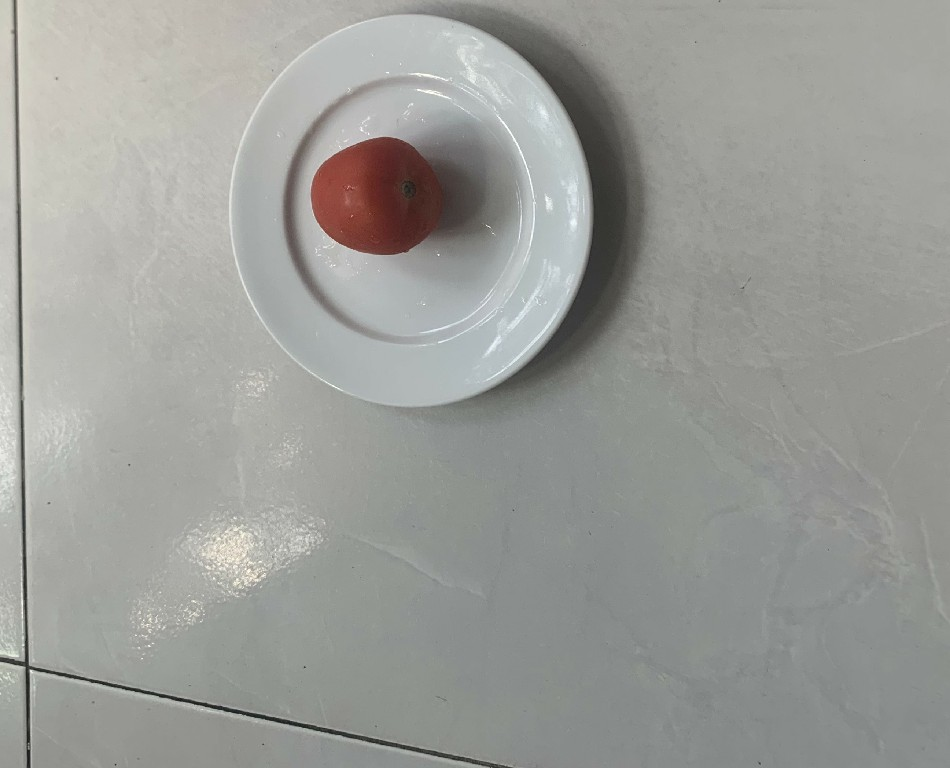OK: (307, 132, 438, 259)
